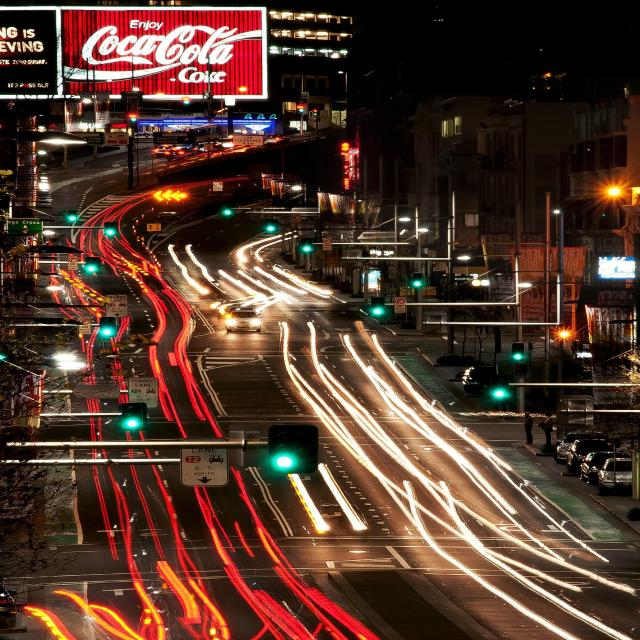coca-cola: (77, 24, 242, 69)
